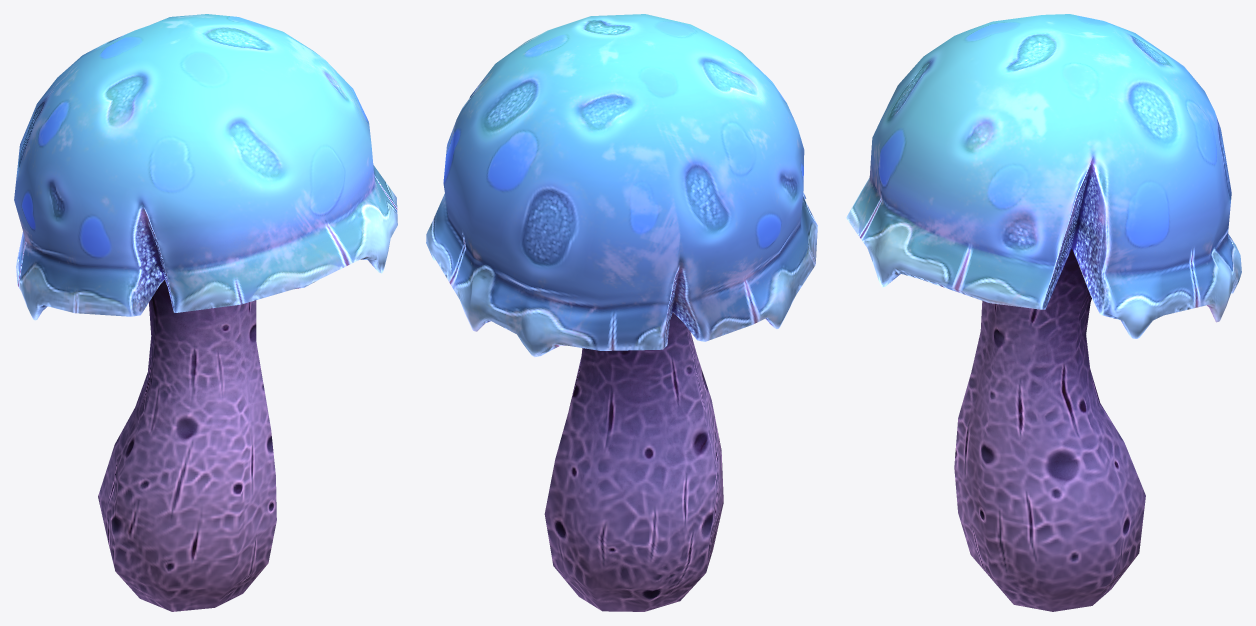
The model's file is mushroom for caterpillar.fbx.
3 renders of one model, left to right at view 1: azimuth 30°, elevation 25°; view 2: azimuth 150°, elevation 25°; view 3: azimuth 270°, elevation 25°, orthographic.
Parts seen in each view (by area): view 1: RetopoFlow; view 2: RetopoFlow; view 3: RetopoFlow.
Boxes of the visible parts, box(x1,y1,x2,y2) form: RetopoFlow: box(14, 14, 397, 611); RetopoFlow: box(426, 14, 817, 611); RetopoFlow: box(846, 14, 1241, 611).
Size of the model in its own units: 2393 by 3822 by 2396.
Materials: 1 (1 with a texture image).
